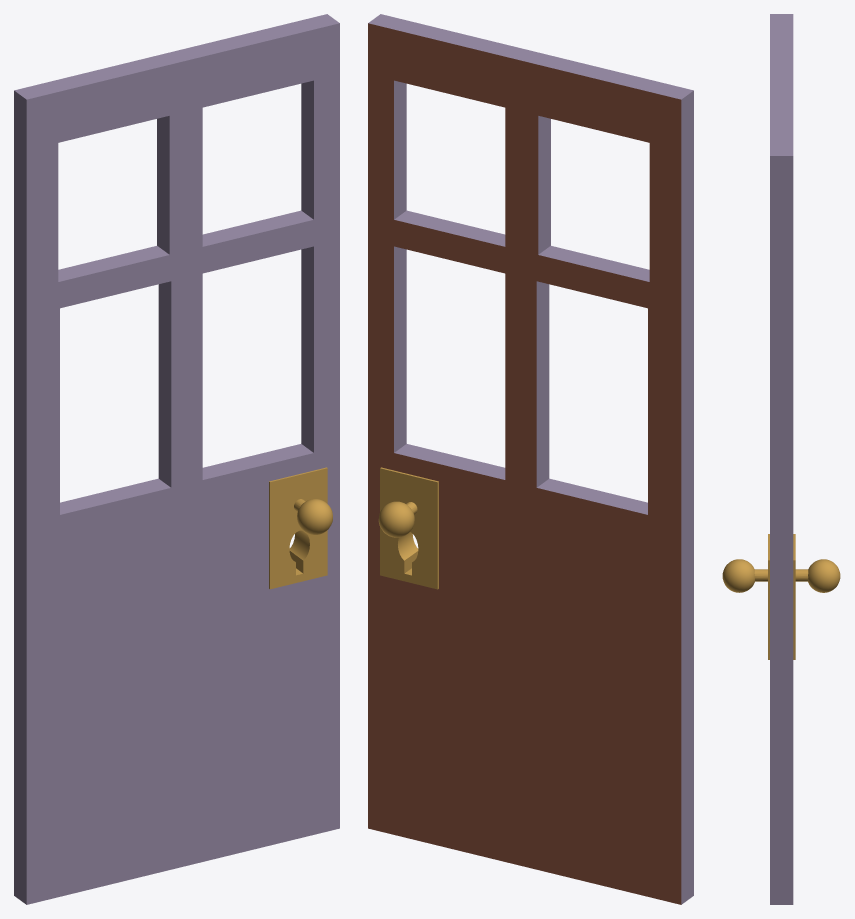
The model's file is puertaFrente.obj.
The picture shows the model from 3 angles, left to right: view 1: azimuth 30°, elevation 25°; view 2: azimuth 150°, elevation 25°; view 3: azimuth 270°, elevation 25°; orthographic projection. The views are drawn at different scales.
Parts seen in each view (by area): view 1: polySurface55; view 2: polySurface55; view 3: polySurface55.
Boxes of the visible parts, x1,y1,x2,y2 form: polySurface55: [14, 14, 339, 904]; polySurface55: [368, 14, 693, 904]; polySurface55: [722, 14, 840, 904].
Bounding box in the file's own units: 3.36 × 8.24 × 1.18.
Materials: 3 (3 with a texture image).
